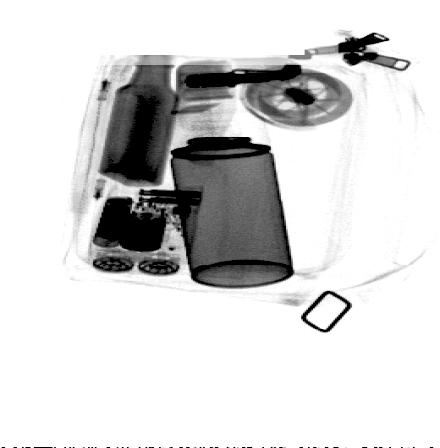Sprayer: (159, 104, 298, 290)
